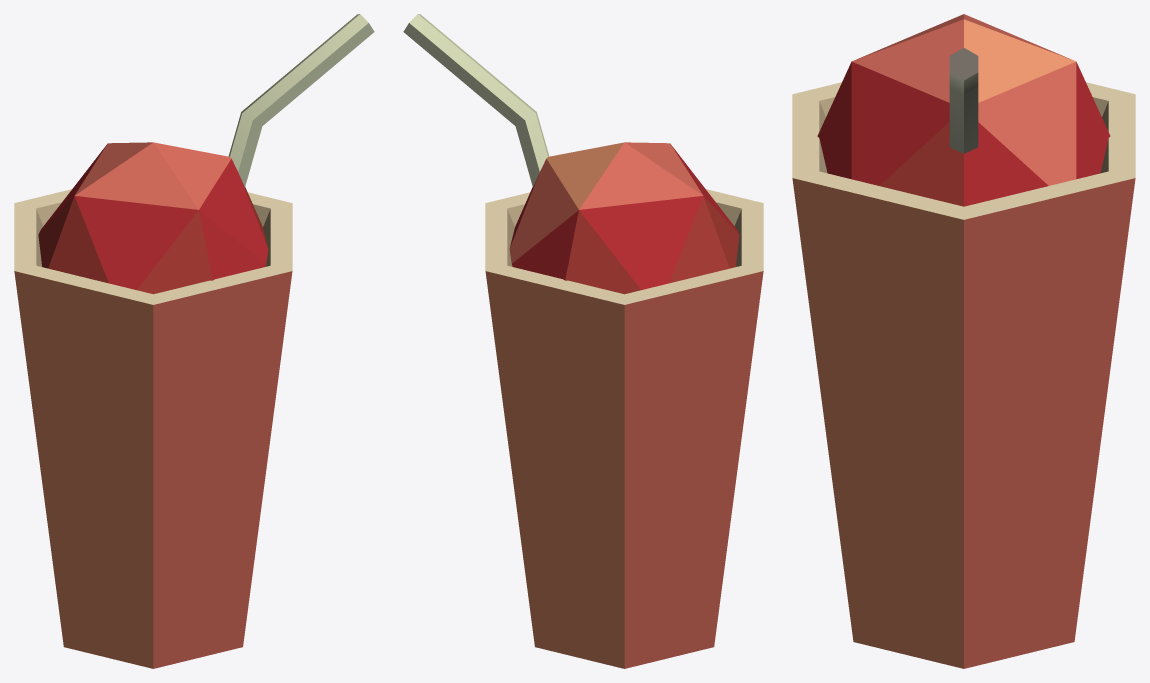
Rendered from Vaso_1.FBX.
The picture shows the model from 3 angles, left to right: view 1: azimuth 30°, elevation 25°; view 2: azimuth 150°, elevation 25°; view 3: azimuth 270°, elevation 25°; orthographic projection. The views are drawn at different scales.
Parts seen in each view (by area): view 1: Vaso_Rojo; view 2: Vaso_Rojo; view 3: Vaso_Rojo.
Part boxes in pixels (bbox=[...]): Vaso_Rojo: bbox=[14, 14, 374, 668]; Vaso_Rojo: bbox=[403, 14, 763, 668]; Vaso_Rojo: bbox=[792, 14, 1135, 668].
Size of the model in its own units: 38.54 by 57.79 by 25.98.
